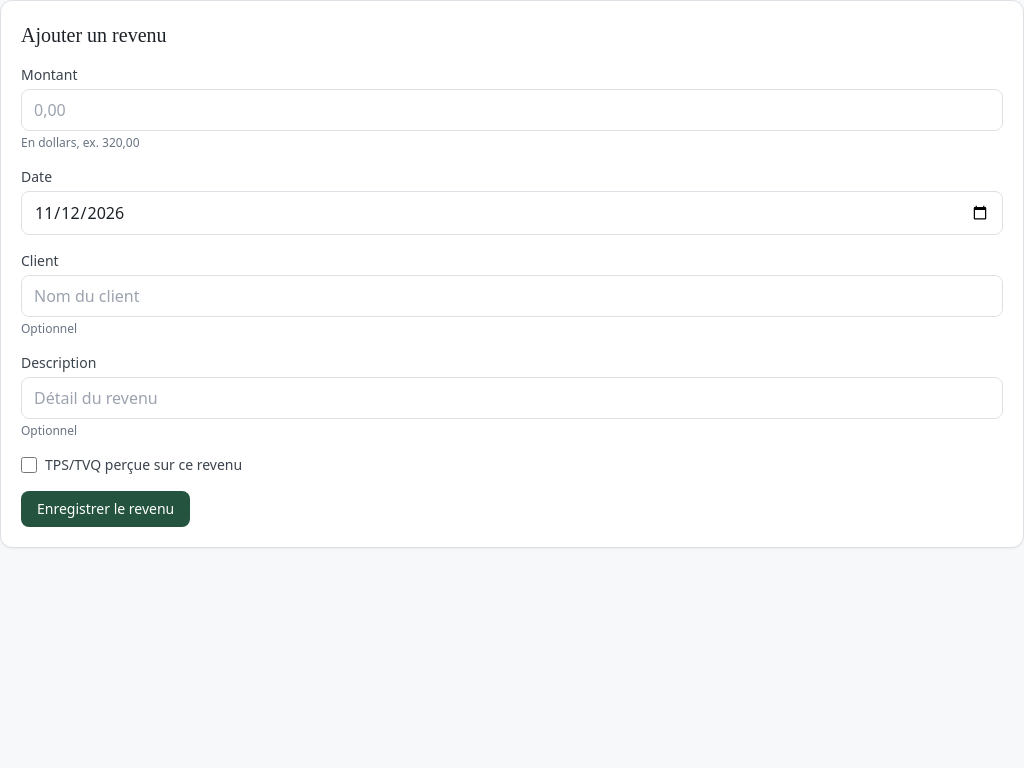
IncomeForm › rejette un montant invalide avec un message d'erreur
Type "abc" into the field labelled "Montant" at (512, 110), box [21,89,1003,131]
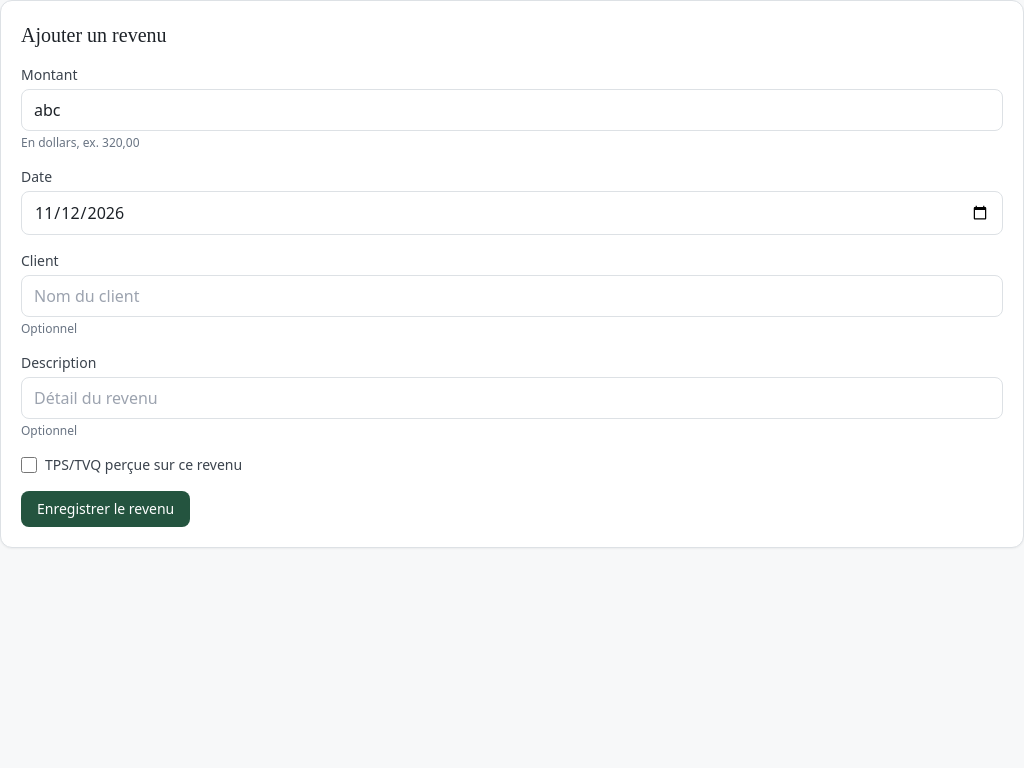
Click the button "Enregistrer le revenu" at (106, 509), box [21,491,190,527]
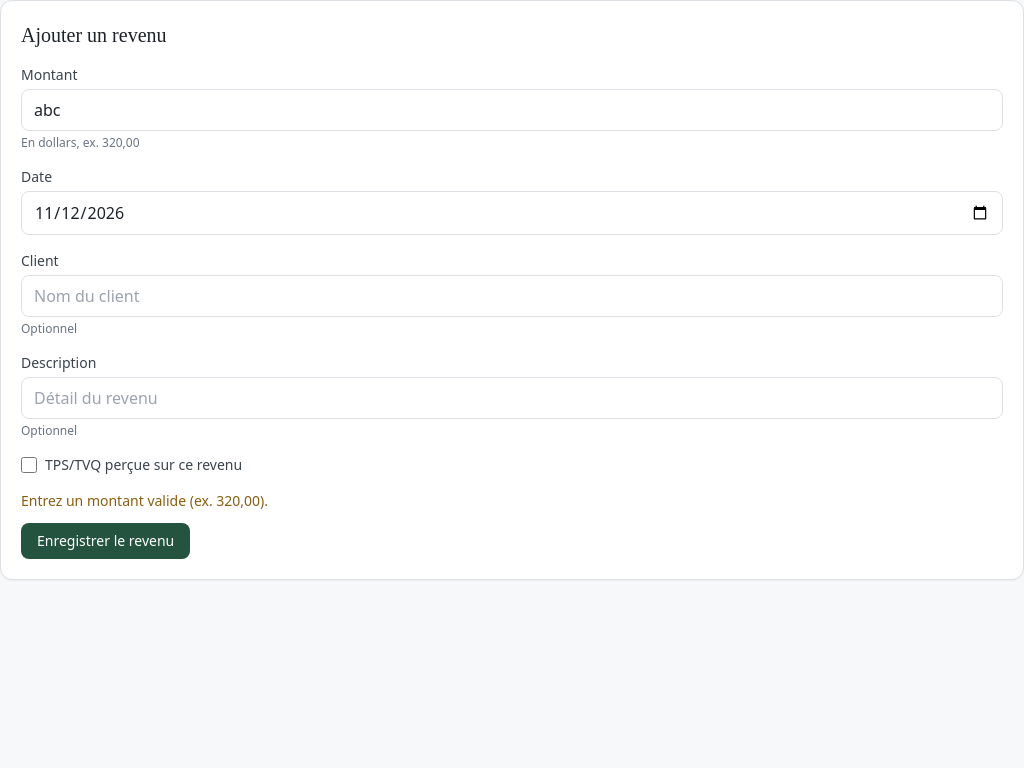
Now the text "Entrez un montant valide (ex. 320,00)." is shown, box [21,491,268,510]
